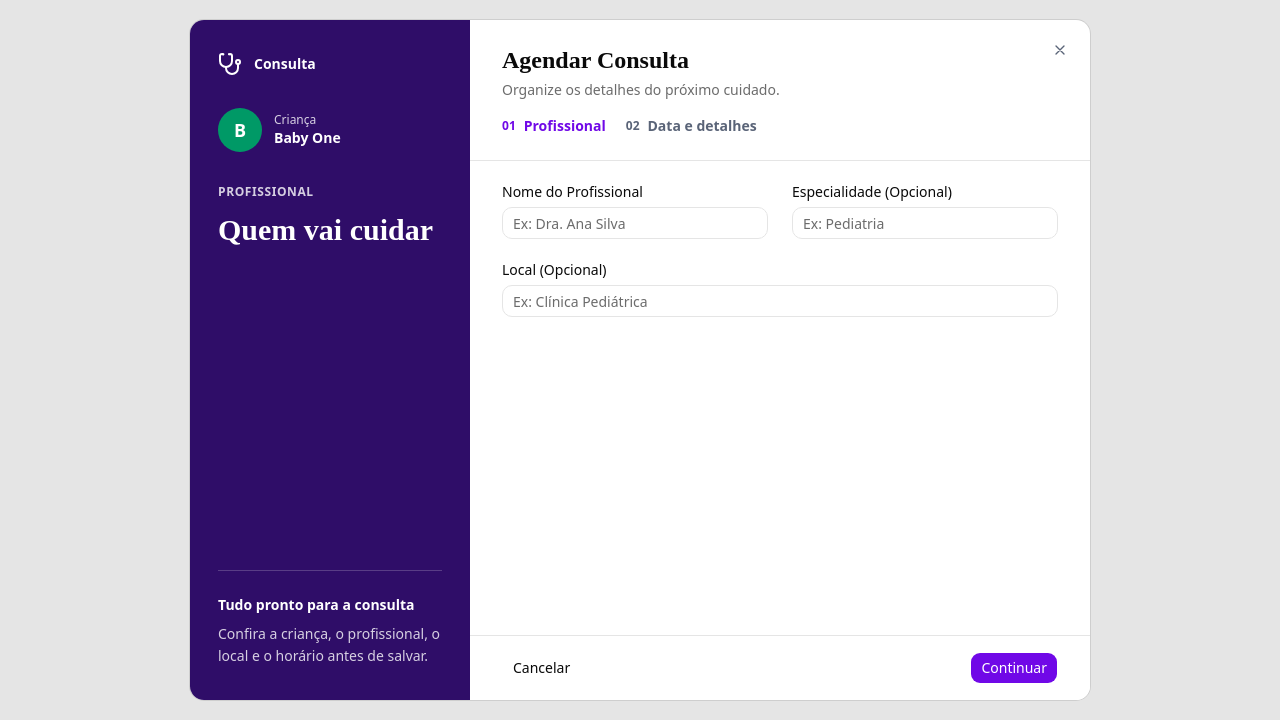
AddAppointmentDialog › blocks advancing to the schedule step without a professional name
Expected: the dropdown labelled "Nome do Profissional" is shown, top-left (502, 207), bottom-right (768, 239)
Click the button "Continuar" at (1014, 668), box top-left (970, 652), bottom-right (1058, 684)
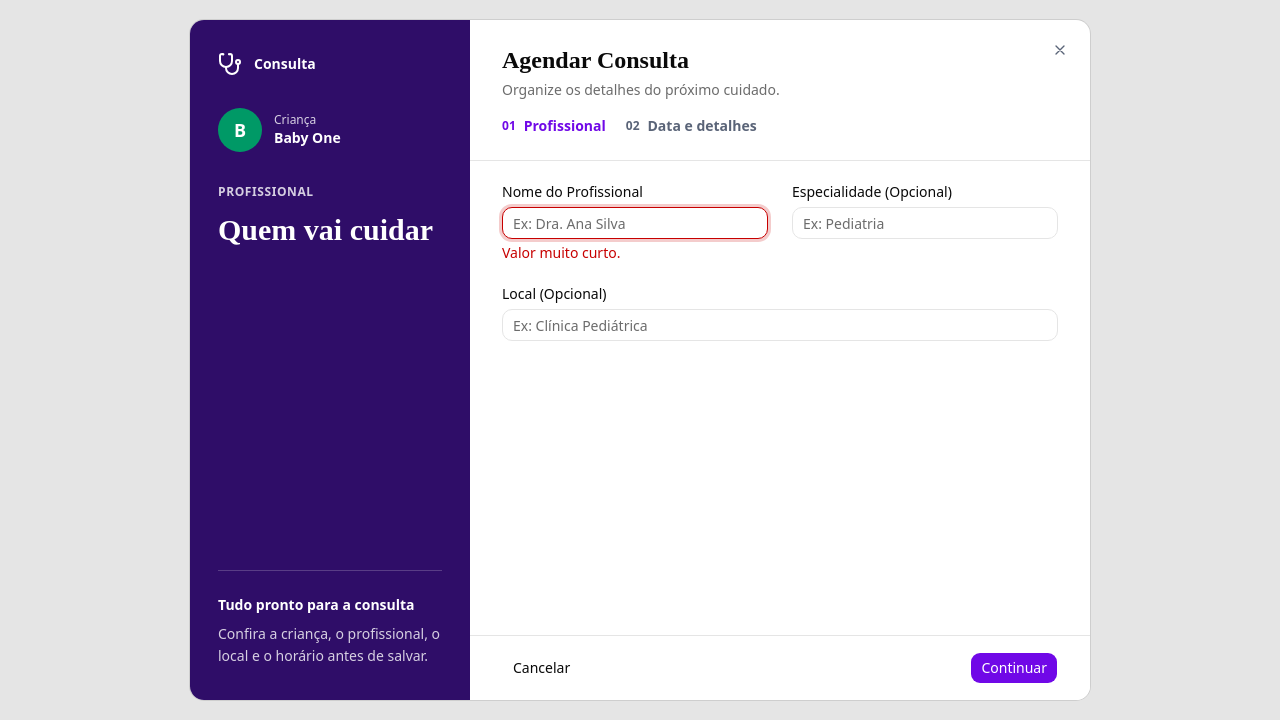
Now the text "Valor muito curto." is shown, box top-left (502, 243), bottom-right (620, 262)
